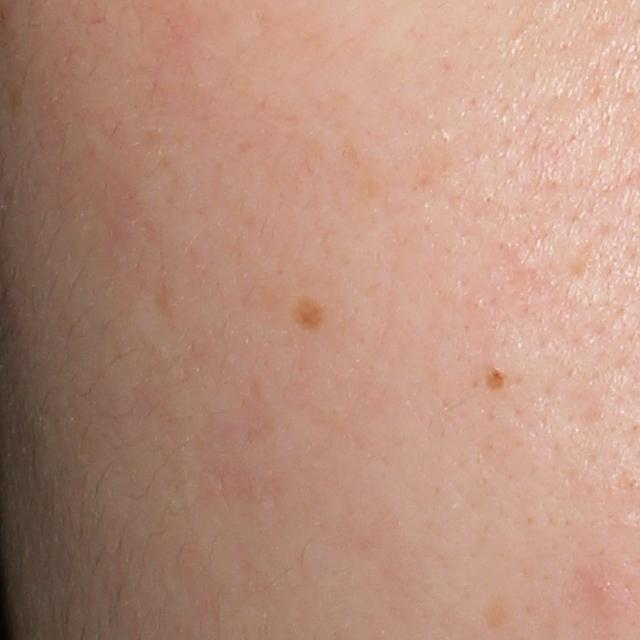nevus: (291, 294, 330, 329), (483, 365, 507, 392)
